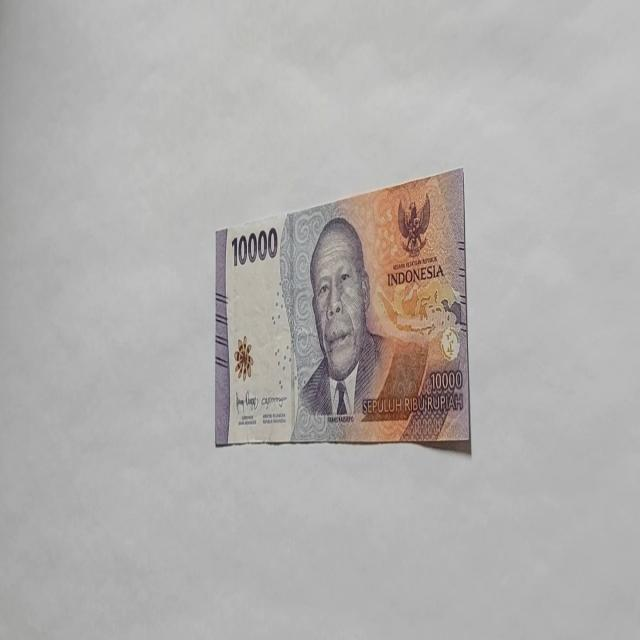sepuluh ribu rupiah: (214, 166, 472, 452), (294, 214, 388, 423)
